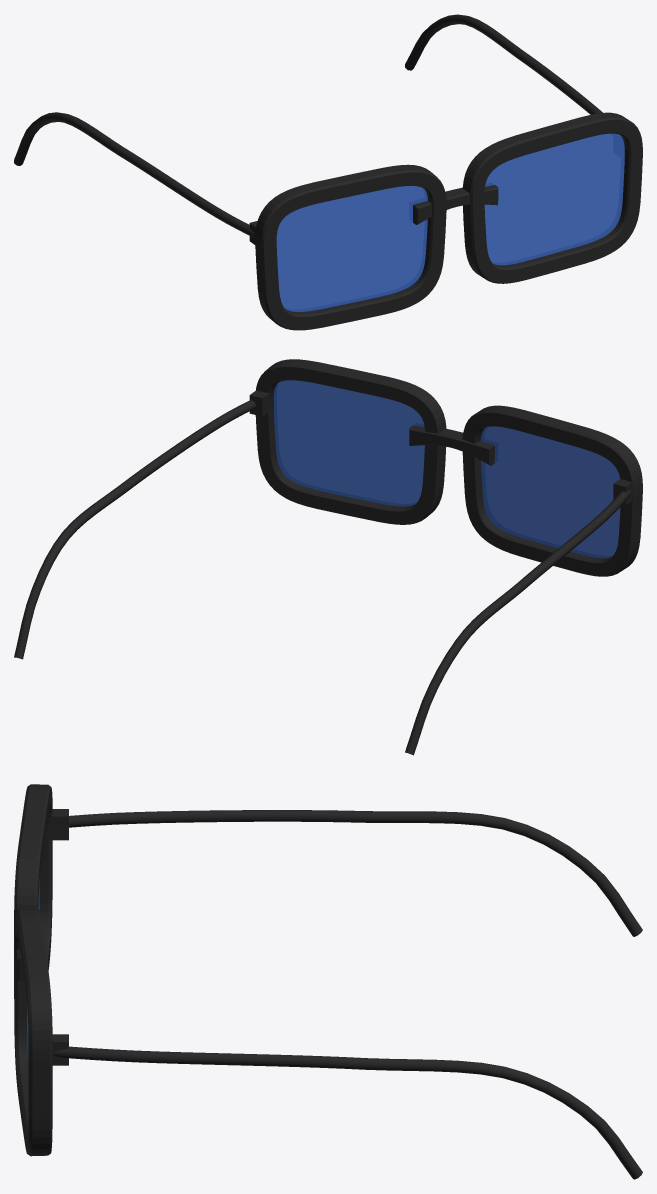
File: BM-S06_Palm_Matte_black_Blue_mirror_lens.glb
3 renders of one model, top to bottom at view 1: azimuth 30°, elevation 25°; view 2: azimuth 150°, elevation 25°; view 3: azimuth 270°, elevation 25°, orthographic. The views are drawn at different scales.
Parts seen in each view (by area): view 1: Palm_Matte_black_Blue_mirror_lens_Lenses, Palm_Matte_black_Blue_mirror_lens_Acetate; view 2: Palm_Matte_black_Blue_mirror_lens_Acetate, Palm_Matte_black_Blue_mirror_lens_Lenses; view 3: Palm_Matte_black_Blue_mirror_lens_Acetate.
Part boxes in pixels (<box>): Palm_Matte_black_Blue_mirror_lens_Lenses: <box>276,133,624,311</box>; Palm_Matte_black_Blue_mirror_lens_Acetate: <box>14,14,642,330</box>; Palm_Matte_black_Blue_mirror_lens_Acetate: <box>14,359,642,755</box>; Palm_Matte_black_Blue_mirror_lens_Lenses: <box>273,380,620,558</box>; Palm_Matte_black_Blue_mirror_lens_Acetate: <box>14,784,642,1179</box>.
Bounding box in the file's own units: 0.1523 × 0.0501 × 0.1594.
